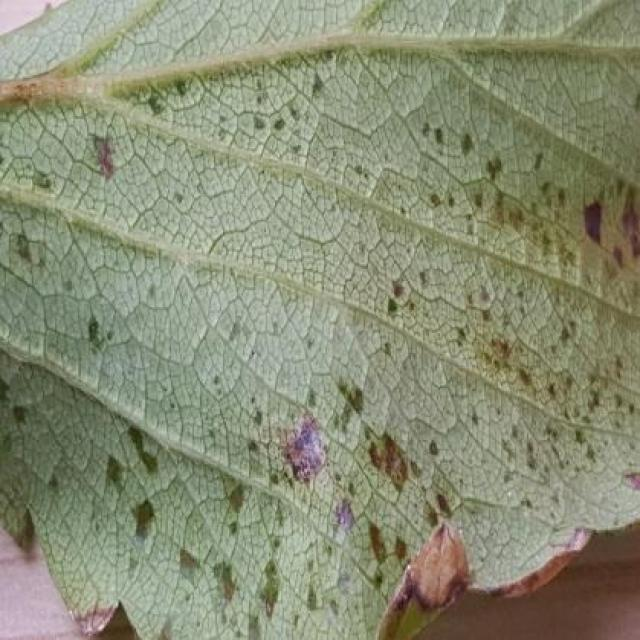Angular Leafspot: (0, 43, 638, 638)
